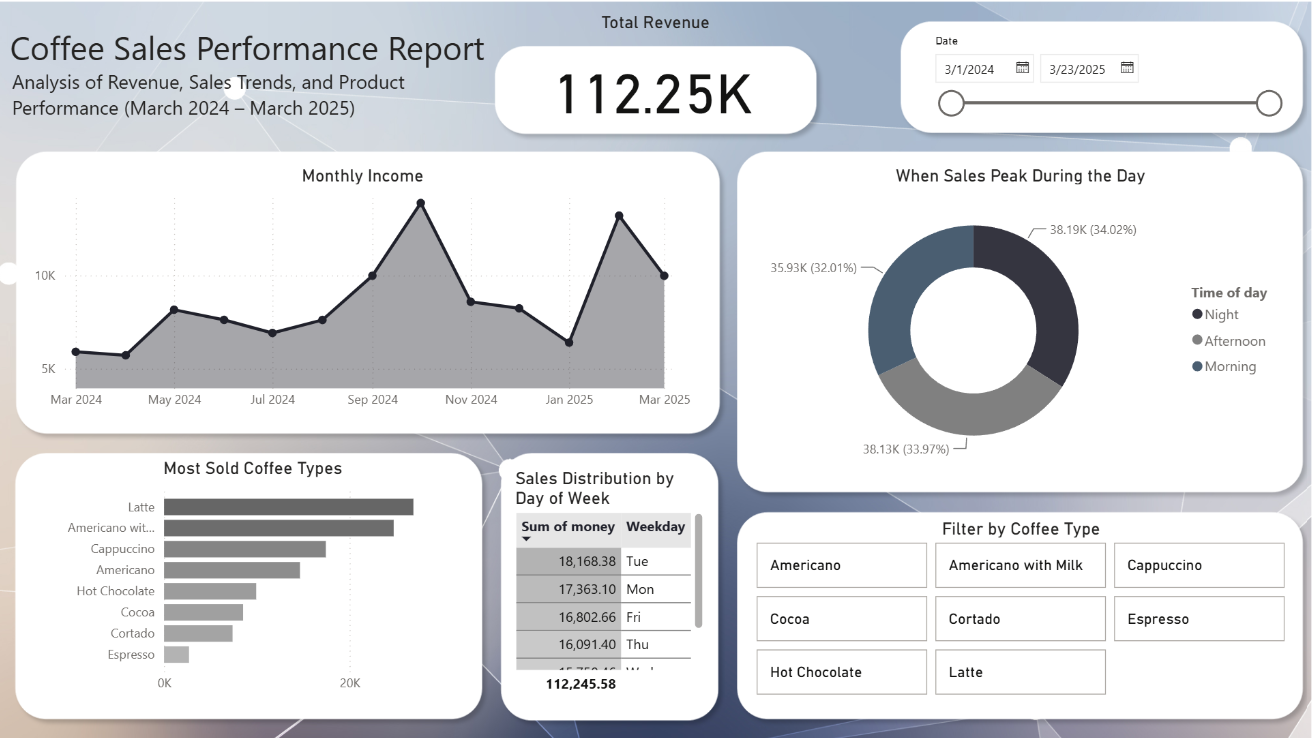

What the dashboard file says about the page in this screenshot:
{"tool":"powerbi","page":{"name":"Coffee Report","canvas":[1280,720],"ordinal":0},"visuals":[{"type":"lineChart","title":"Monthly Income","fields":{"Category":["Coffe_sales.Date.Variasjon.Datohierarki.År","Coffe_sales.Date.Variasjon.Datohierarki.Kvartal","Coffe_sales.Date.Variasjon.Datohierarki.Måned","Coffe_sales.Date.Variasjon.Datohierarki.Dag"],"Y":["Sum(Coffe_sales.money)"]},"box":[7.8,137.1,693.5,286],"z":0},{"type":"tableEx","title":"Sales Distribution by Day of Week","fields":{"Values":["Sum(Coffe_sales.money)","Coffe_sales.Weekday"]},"box":[493.1,429.9,208.1,278.2],"z":1000},{"type":"slicer","fields":{"Values":["Coffe_sales.Date"]},"box":[900.7,22.4,358.9,107],"z":2000},{"type":"barChart","title":"Most Sold Coffee Types","fields":{"Y":["Sum(Coffe_sales.money)"],"Category":["Coffe_sales.coffee_name"]},"box":[7.8,429.9,472.7,278.2],"z":3000},{"type":"advancedSlicerVisual","title":"Filter by Coffee Type","fields":{"Values":["Coffe_sales.coffee_name"]},"box":[711,486.3,548.6,221.8],"z":4000},{"type":"donutChart","title":"When Sales Peak During the Day","fields":{"Category":["Coffe_sales.Time_of_Day"],"Y":["Sum(Coffe_sales.money)"]},"box":[711,137.1,548.6,341.4],"z":5000},{"type":"textbox","box":[7.8,26.3,497,103.1],"z":6000},{"type":"cardVisual","title":"Total Revenue","fields":{"Data":["Sum(Coffe_sales.money)"]},"box":[516.5,11.7,369.6,117.7],"z":7000}]}

Visuals, with their boxes in screenshot pixels (x1, y1, x2, y2), scaled from the page's 1280x720 canvas onto the 1312x738 screenshot:
"Monthly Income" lineChart: 8:141:719:434
"Sales Distribution by Day of Week" tableEx: 505:441:719:726
slicer - Coffe_sales.Date: 923:23:1291:133
"Most Sold Coffee Types" barChart: 8:441:493:726
"Filter by Coffee Type" advancedSlicerVisual: 729:498:1291:726
"When Sales Peak During the Day" donutChart: 729:141:1291:490
textbox: 8:27:517:133
"Total Revenue" cardVisual: 529:12:908:133
